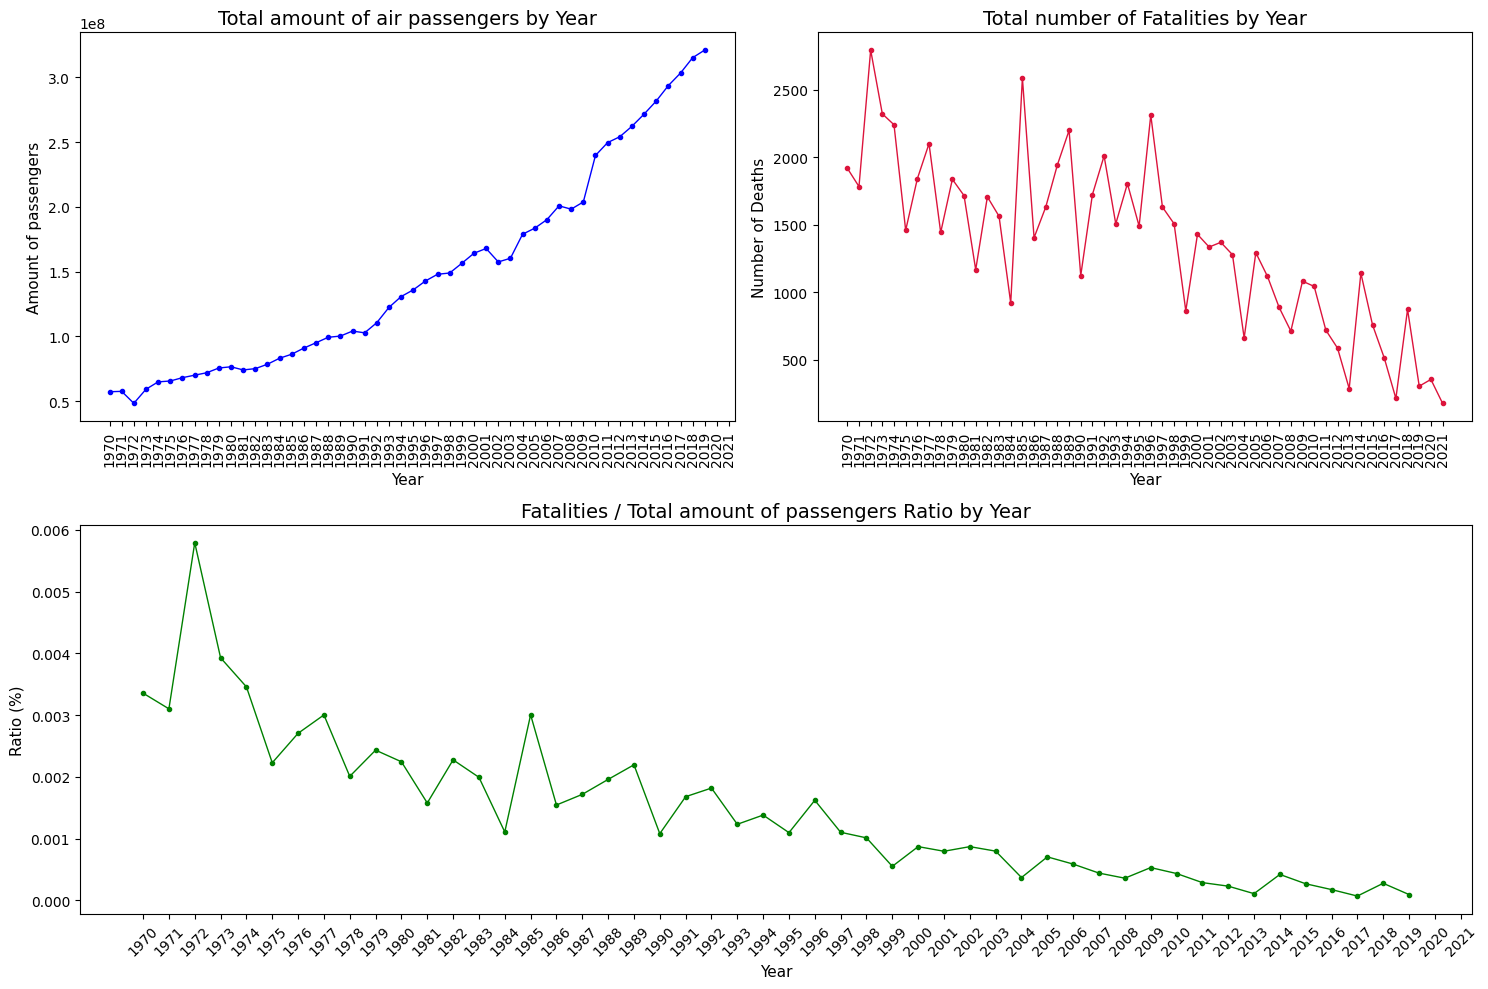

This screenshot's page, from the dashboard's own definition file:
{"tool":"tableau","page":{"name":"Dashboard 4","canvas":[1000,1000],"units":"permille","ordinal":3},"visuals":[{"type":"worksheet","title":"Total number of Fatalaties by Year","mark":"Automatic","rows":["total_fatalities_aboard (total_passengers_worldbank (1).csv)"],"cols":["F1"],"box":[4.7,8.5,495.3,491.5]},{"type":"worksheet","title":"Total_flights","mark":"Automatic","rows":["Sum"],"cols":["F1"],"box":[500,8.5,495.4,491.5]},{"type":"worksheet","title":"Ratio Fatalities/Total_Flights","mark":"Automatic","rows":["Ratio","total_fatalities_aboard (total_passengers_worldbank (1).csv)"],"cols":["F1"],"box":[4.7,500,990.7,491.5]},{"type":"text","box":[611.8,611.2,309.1,116.5]},{"type":"legend","title":"Ratio Fatalities/Total_Flights","param":"[federated.1lipnbp1pfukkn1g3spwm1b5z8rt].[:Measure Names]","box":[62.9,847.5,241,49.8]}]}

Visuals, with their boxes on the dashboard's canvas, which has no fixed pixel size, in thousandths of its width and height (x1, y1, x2, y2). These are canvas units, not pixel positions in the 1488x989 screenshot, which may show the page scaled, cropped or inside an application window:
"Total number of Fatalaties by Year" worksheet: left=5, top=8, right=500, bottom=500
"Total_flights" worksheet: left=500, top=8, right=995, bottom=500
"Ratio Fatalities/Total_Flights" worksheet: left=5, top=500, right=995, bottom=992
text: left=612, top=611, right=921, bottom=728
"Ratio Fatalities/Total_Flights" legend: left=63, top=848, right=304, bottom=897
